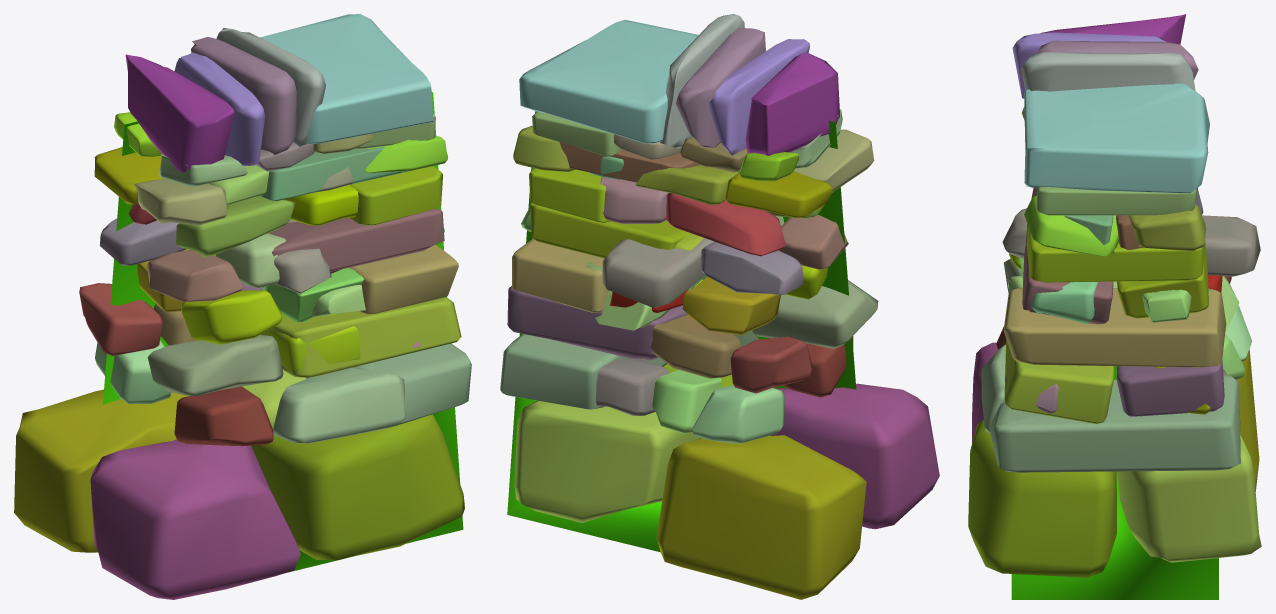
The model's file is SM_WallEnd_D.glb.
3 views of the same model, side by side, from view 1: azimuth 30°, elevation 25°; view 2: azimuth 150°, elevation 25°; view 3: azimuth 270°, elevation 25° (orthographic). The views are drawn at different scales.
Parts seen in each view (by area): view 1: SM_WallEnd_D; view 2: SM_WallEnd_D; view 3: SM_WallEnd_D.
Boxes of the visible parts, left/top/right/bottom form: SM_WallEnd_D: left=14, top=14, right=471, bottom=599; SM_WallEnd_D: left=500, top=14, right=939, bottom=599; SM_WallEnd_D: left=968, top=14, right=1261, bottom=599.
Size of the model in its own units: 1.24 by 1.69 by 0.9349.
